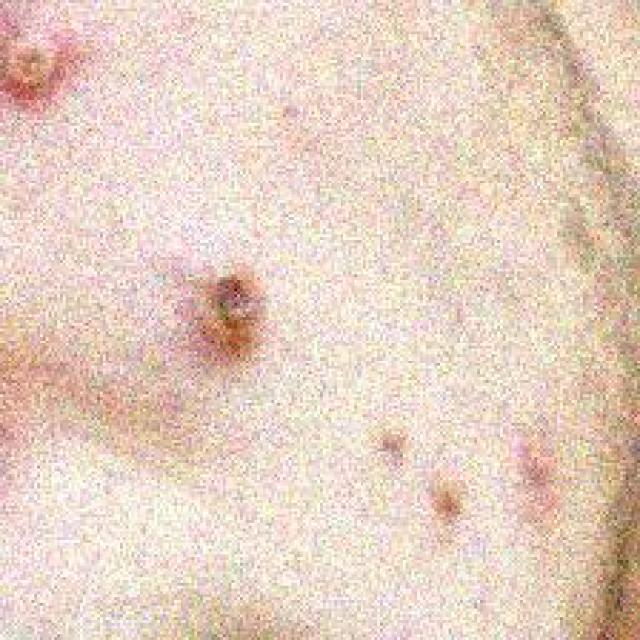monkeypox: (0, 17, 517, 580)
